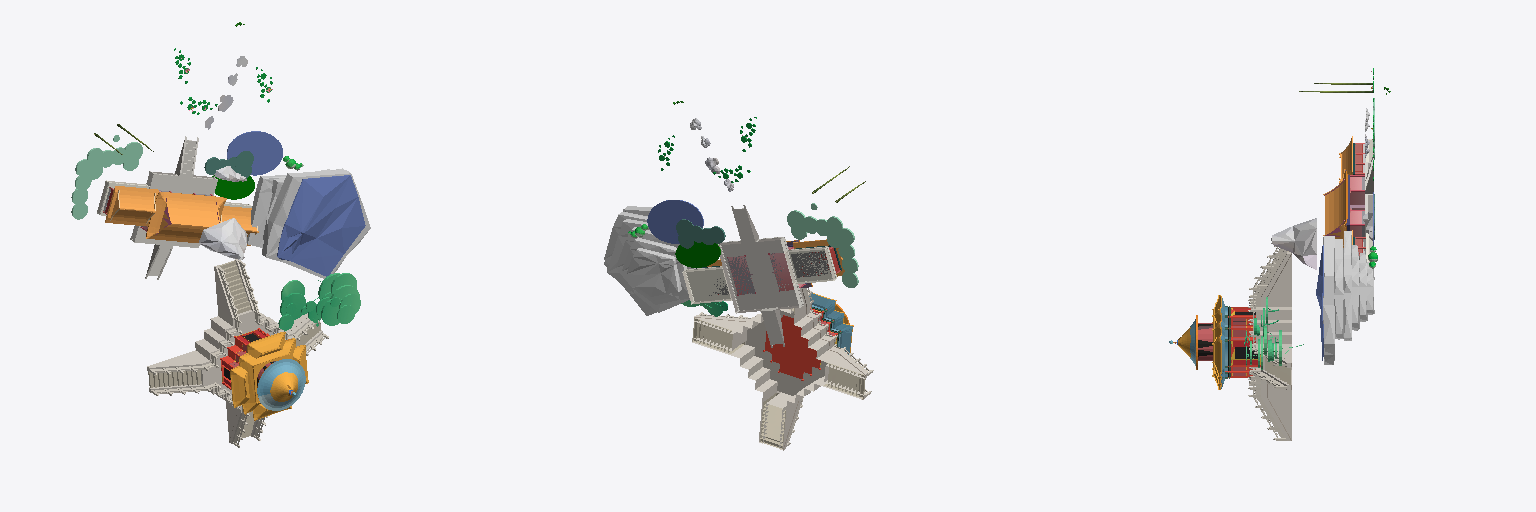
3 views of the same model, side by side, from view 1: azimuth 30°, elevation 25°; view 2: azimuth 150°, elevation 25°; view 3: azimuth 270°, elevation 25° (orthographic).
Bounding box in the file's own units: 40.36 × 52.21 × 28.32.
59 materials, 8 textured.